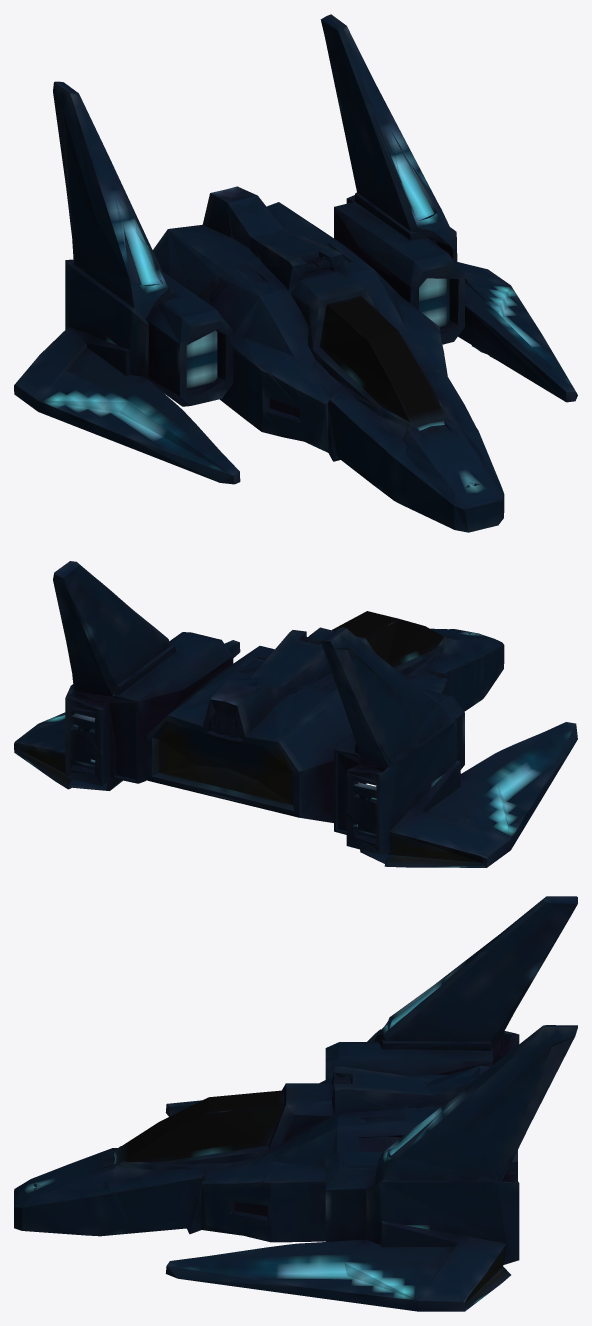
3 views of the same model, one above another, from view 1: azimuth 30°, elevation 25°; view 2: azimuth 150°, elevation 25°; view 3: azimuth 270°, elevation 25° (orthographic). The views are drawn at different scales.
Parts seen in each view (by area): view 1: world; view 2: world; view 3: world.
Boxes of the visible parts, left/top/right/bottom form: world: left=14, top=14, right=577, bottom=532; world: left=14, top=561, right=577, bottom=867; world: left=14, top=896, right=577, bottom=1311.
Bounding box in the file's own units: 0.9402 × 0.5094 × 1.
Materials: 1 (1 with a texture image).
